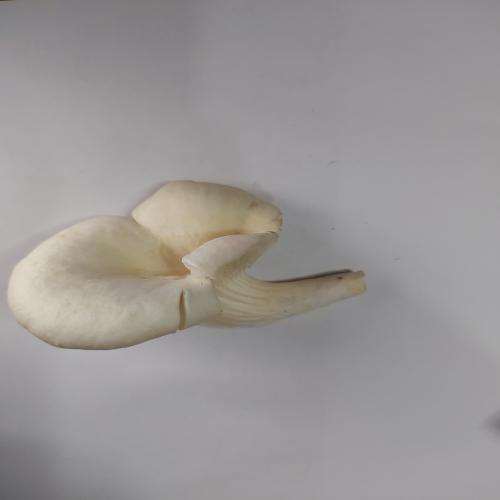Oyster Mushroom: (7, 179, 368, 351)
